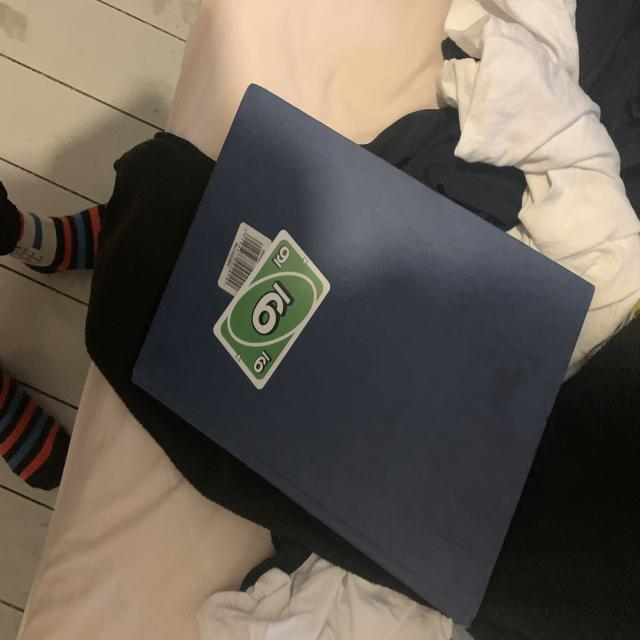lgreen-9: (270, 244, 294, 270)
